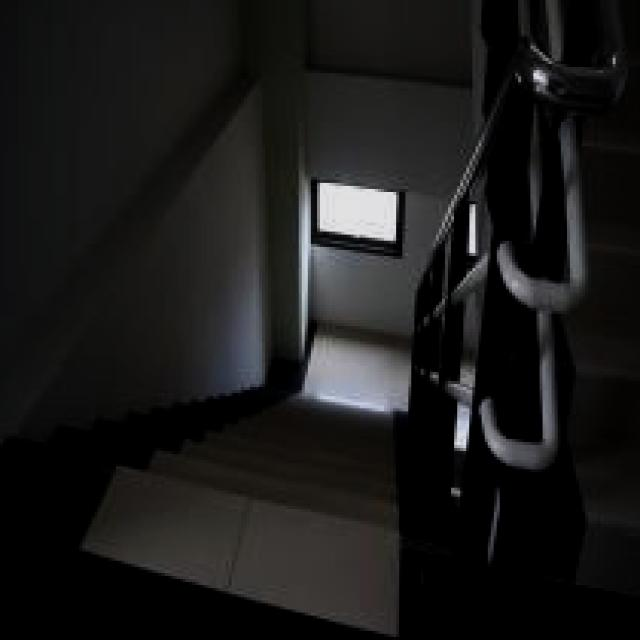downstair: (62, 363, 431, 640)
